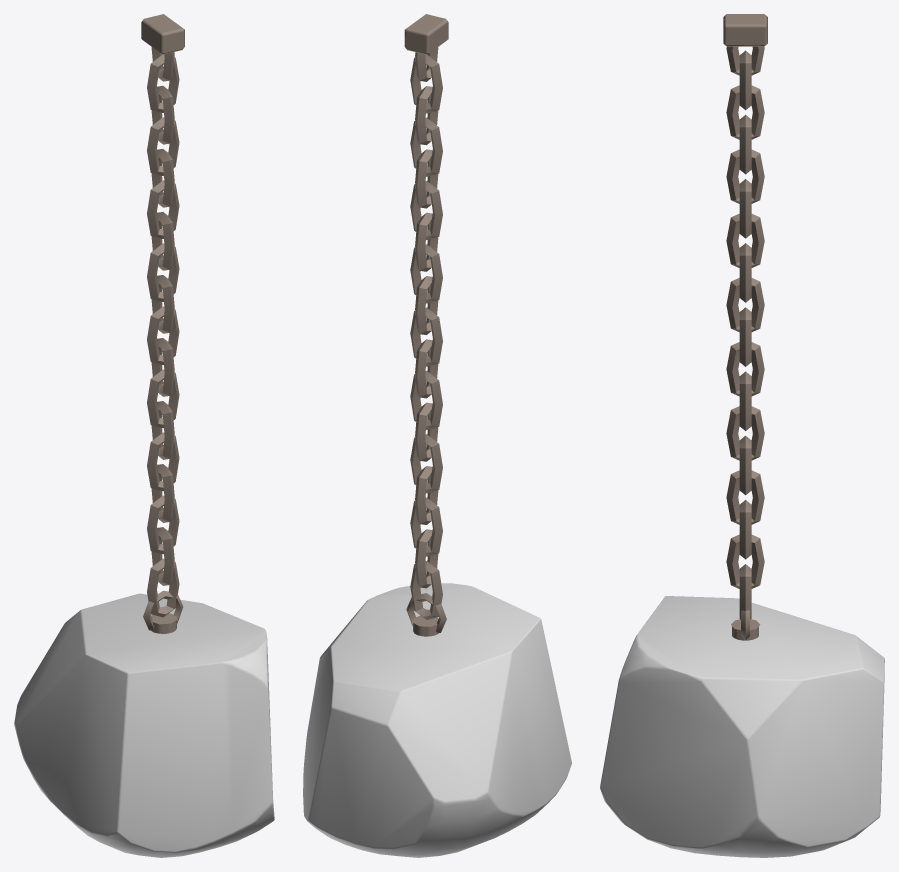
Rendered from mover_boulder_chain_b.glb.
3 renders of one model, left to right at view 1: azimuth 30°, elevation 25°; view 2: azimuth 150°, elevation 25°; view 3: azimuth 270°, elevation 25°, orthographic.
Visible parts, largest first — view 1: mover_boulder_chain_b; view 2: mover_boulder_chain_b; view 3: mover_boulder_chain_b.
Boxes of the visible parts, <box> form: mover_boulder_chain_b: <box>14,14,274,857</box>; mover_boulder_chain_b: <box>303,14,571,857</box>; mover_boulder_chain_b: <box>600,14,884,857</box>.
Bounding box in the file's own units: 3.46 × 12.15 × 3.84.
